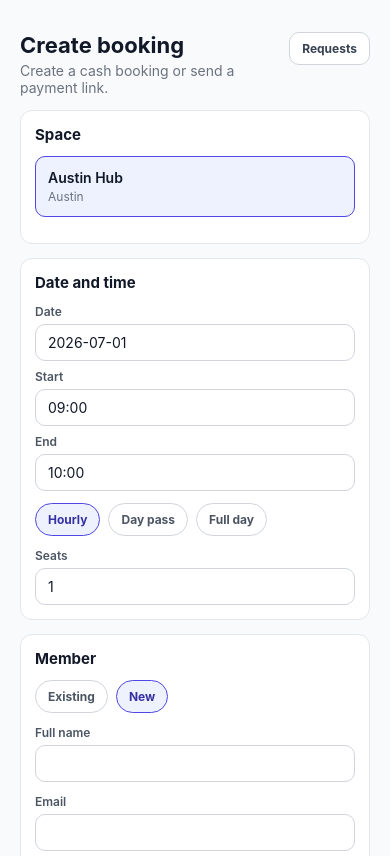
Test: OwnerCreateBookingScreen › sends a payment link payload and shows the hold state
The width and height of the screenshot is (390, 856).
Expected: the text "Austin Hub" is shown, [48, 169, 123, 186]
Replace the text in the field named "Date" with "2026-07-15": point(195, 342) [35, 324, 355, 361]
(page scrolled)
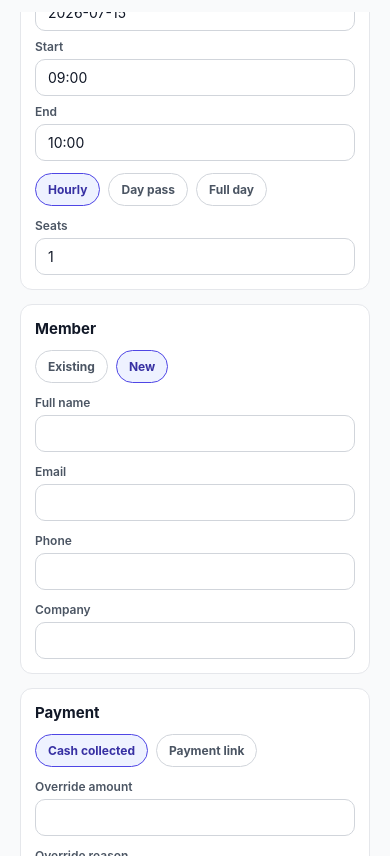
In the field named "Full name": point(195, 434) [35, 415, 355, 452], type "Link Member"
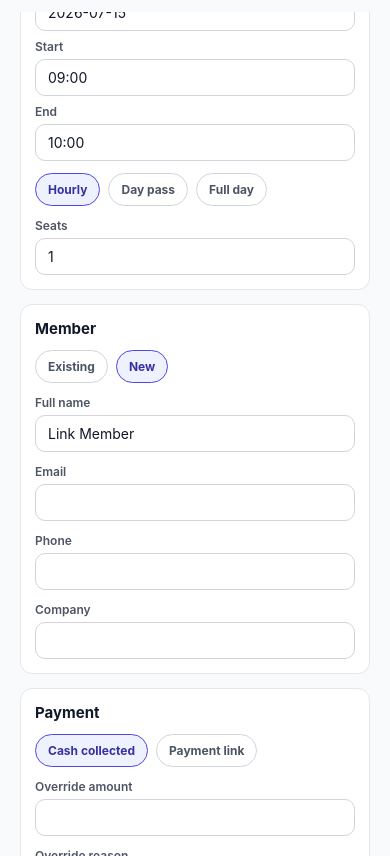
In the field named "Email": point(195, 502) [35, 484, 355, 521], type "link@example.com"
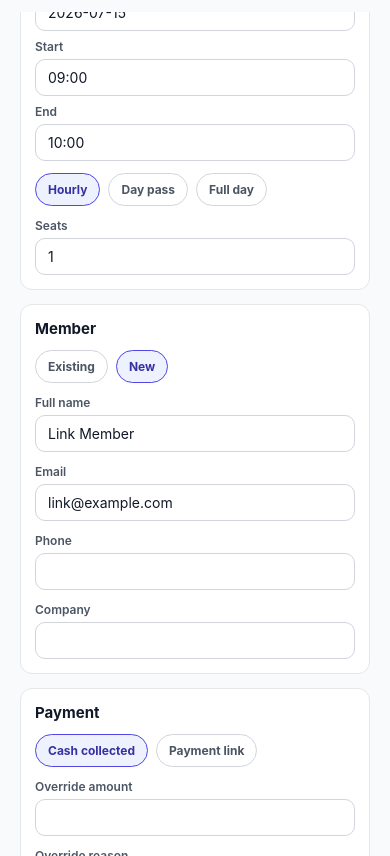
Click the text "Payment link": point(207, 750) [169, 743, 244, 758]
(page scrolled)
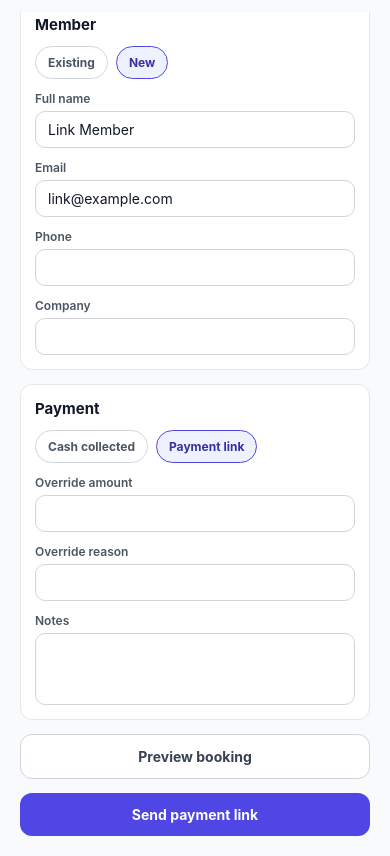
Click the text "Send payment link": point(195, 814) [132, 806, 258, 823]
(page scrolled)
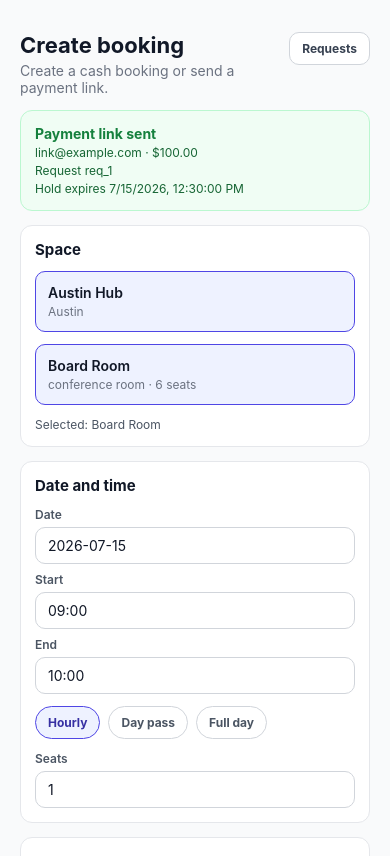
Result: the text "Payment link sent" is shown at [35, 125, 156, 142]
Result: the text "Hold expires 7/15/2026, 12:30:00 PM" is shown at [35, 181, 244, 196]
